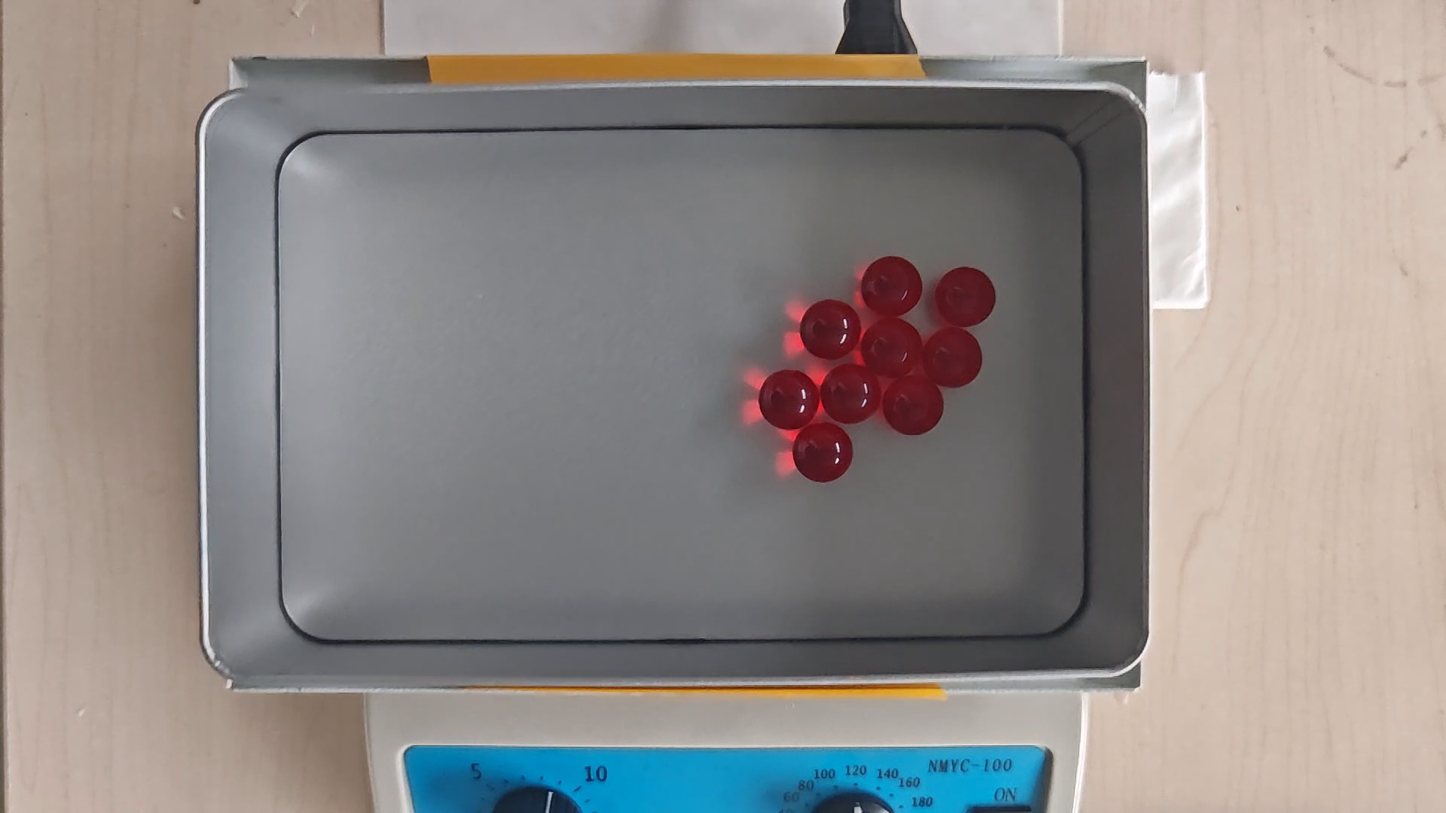ball: (800, 299, 861, 361), (883, 374, 943, 437), (861, 255, 922, 316), (936, 266, 996, 327), (925, 327, 984, 388), (759, 369, 817, 431), (822, 364, 880, 424), (794, 423, 852, 483), (863, 319, 921, 376)
container: (272, 122, 1091, 639)
